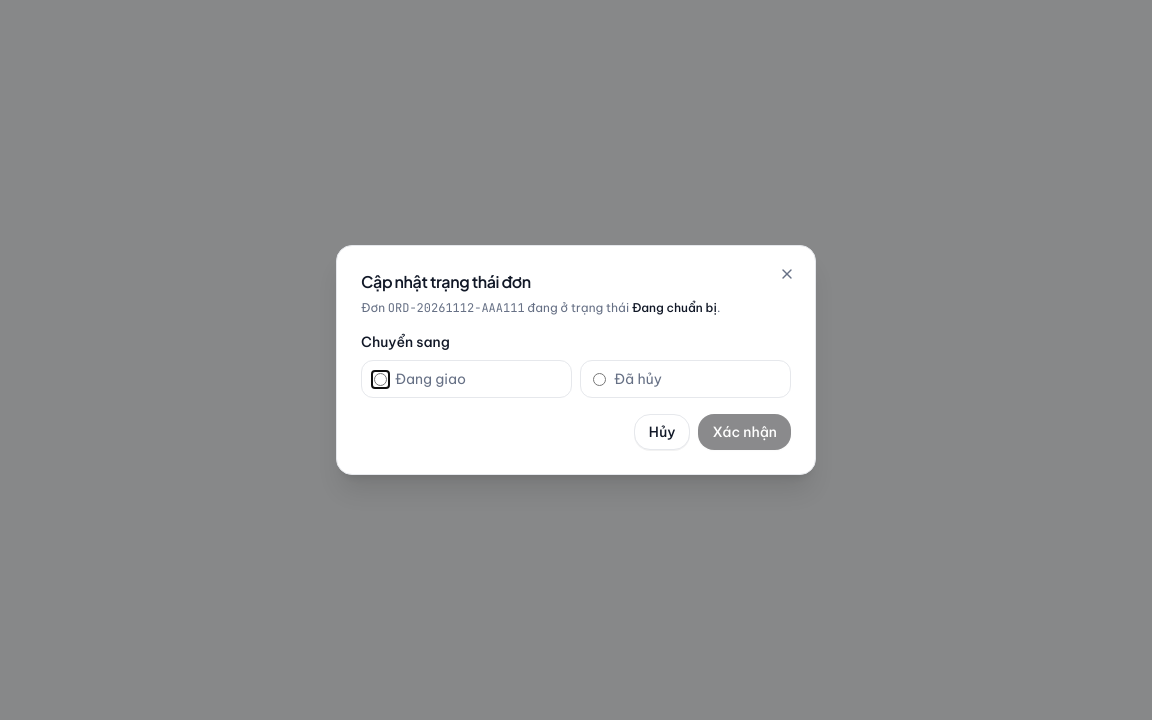
Scenario: OrderStatusDialog › reports a concurrent status change and asks the caller to reload
Click the radio button labelled "Đã hủy": (600, 379) [593, 372, 606, 386]
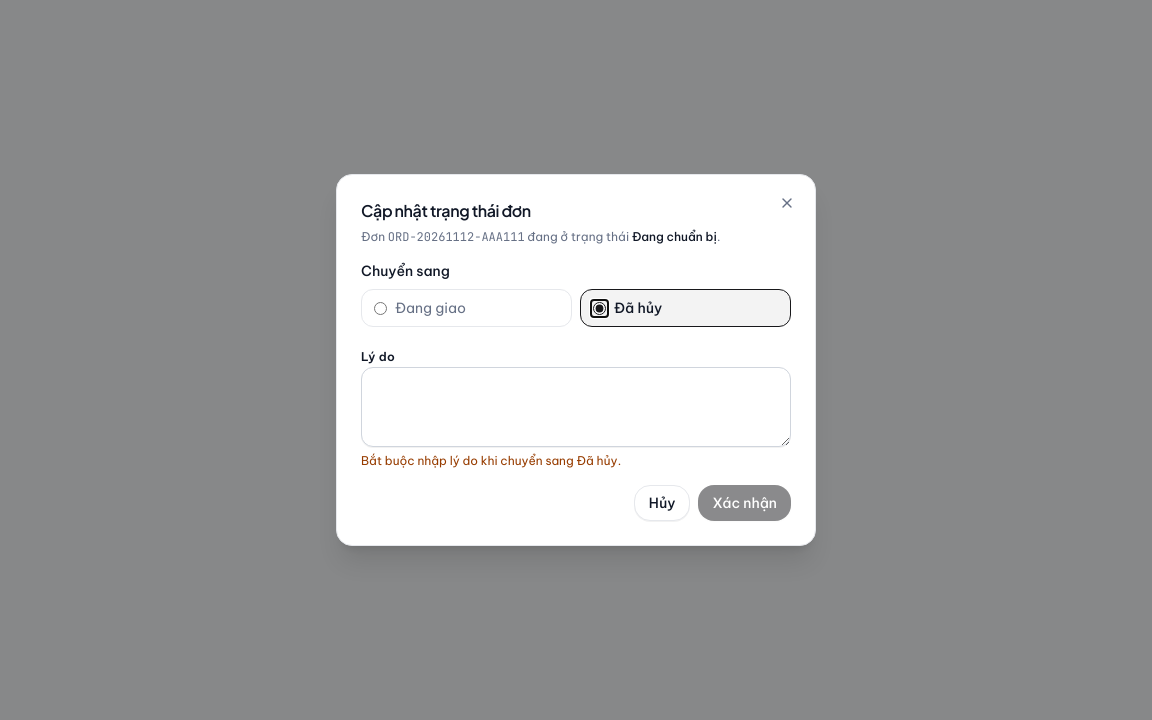
In the text box labelled "Lý do": (576, 407) [361, 367, 791, 447], type "Hết hàng"
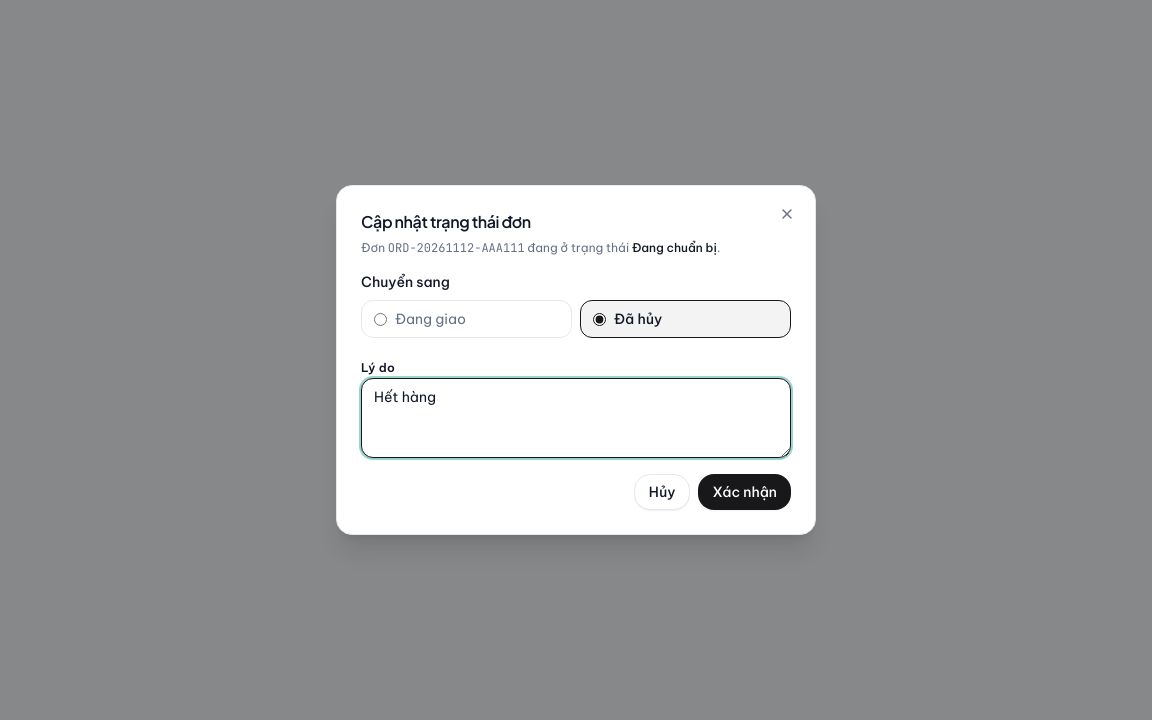
Click the button "Xác nhận": (745, 492) [698, 474, 791, 510]
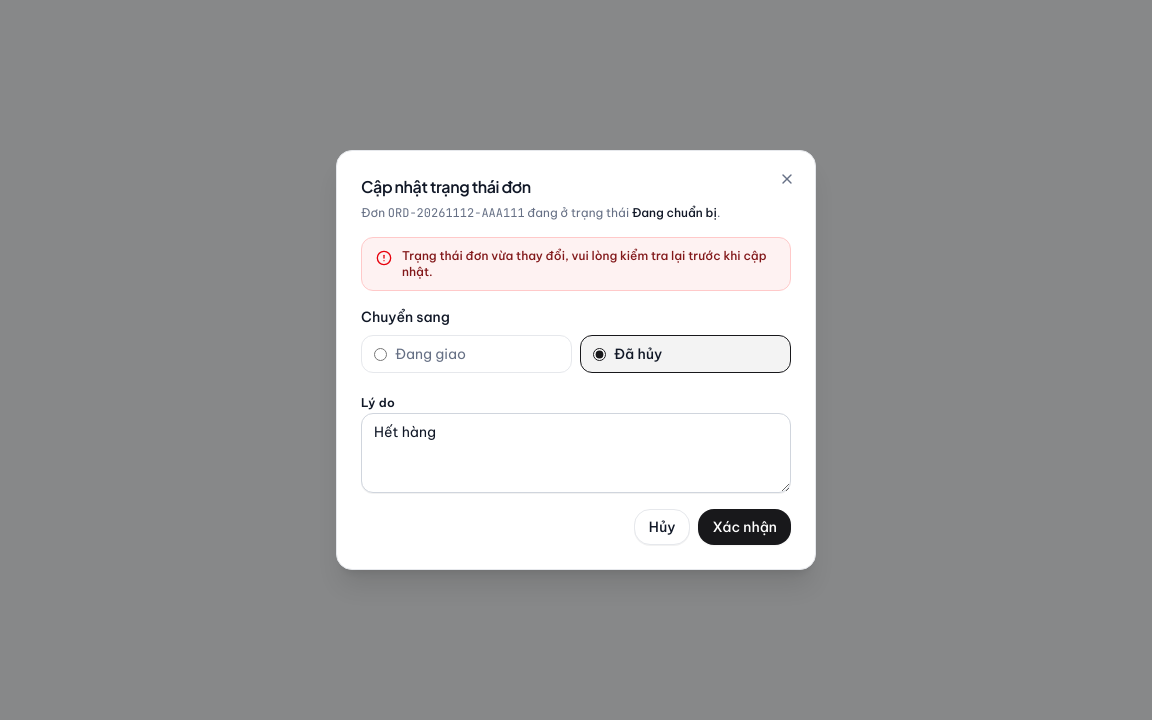
Result: the text "Trạng thái đơn vừa thay đổi, vui lòng kiểm tra lại" is shown at [402, 248, 767, 279]
